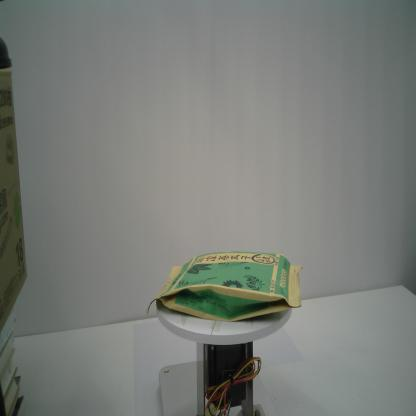Dried Food: (143, 250, 306, 326)
